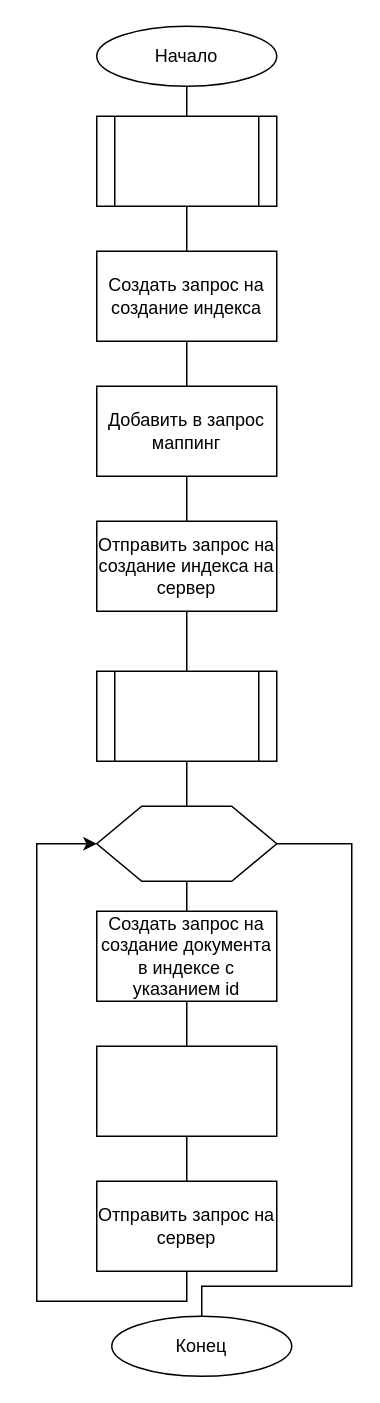
Image size: 380x1403. Some labels were removed from this diagram. The shapes that lost their labels are listed below. From the top down, each one's box as (x1, y1, x2, y2) in pixels, then its label:
(95, 115, 277, 206): Удалить существующий индекс
(95, 670, 277, 761): Прочитать исходные данные из json файла
(95, 805, 277, 881): Для каждого объекта
(95, 1045, 277, 1136): Добавить тело (данные) в запрос
